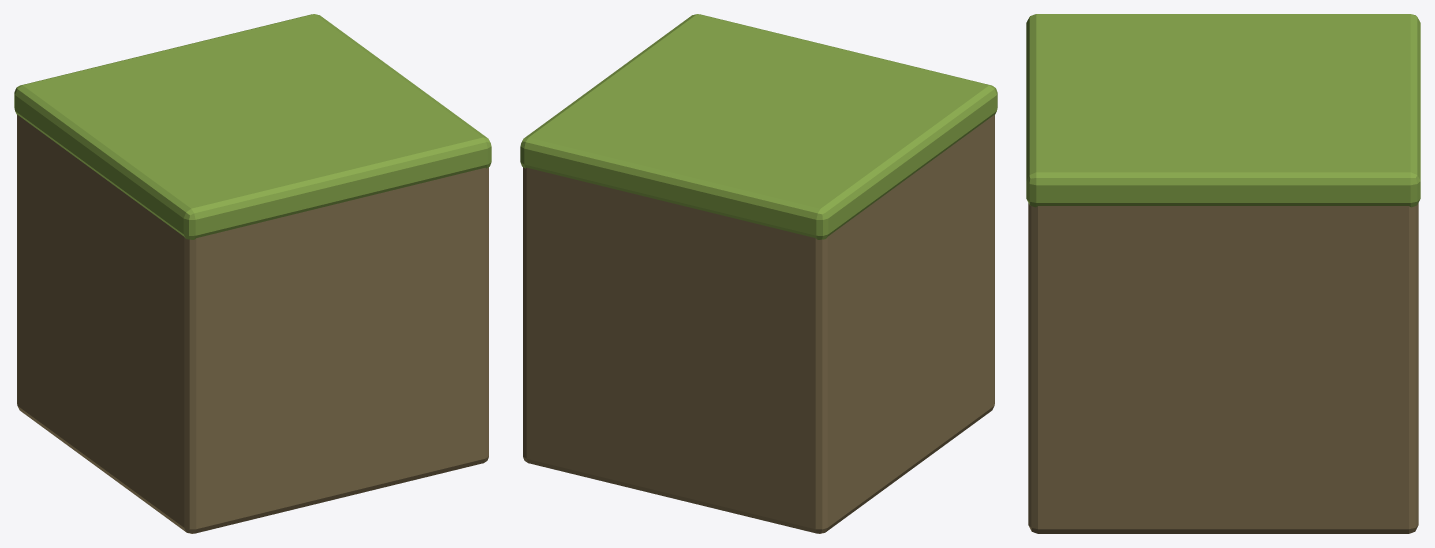
File: SM_Platform_2m_01_C.fbx
The picture shows the model from 3 angles, left to right: view 1: azimuth 30°, elevation 25°; view 2: azimuth 150°, elevation 25°; view 3: azimuth 270°, elevation 25°; orthographic projection. The views are drawn at different scales.
Parts seen in each view (by area): view 1: polySurface91; view 2: polySurface91; view 3: polySurface91.
Boxes of the visible parts, x1=… form: polySurface91: x1=14, y1=14, x2=491, y2=533; polySurface91: x1=520, y1=14, x2=997, y2=533; polySurface91: x1=1026, y1=14, x2=1420, y2=533.
Size of the model in its own units: 202 by 205 by 202.
